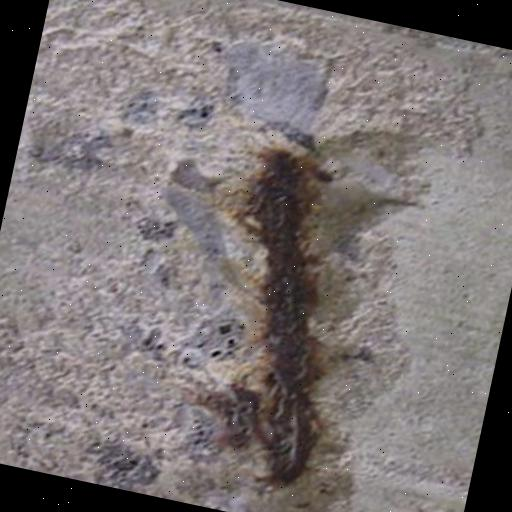spalling: (144, 69, 446, 509)
